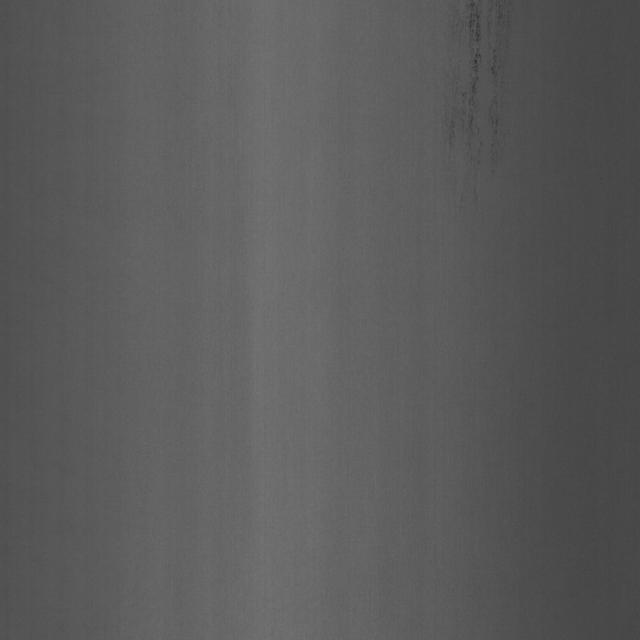oil_spot: (434, 0, 527, 196)
